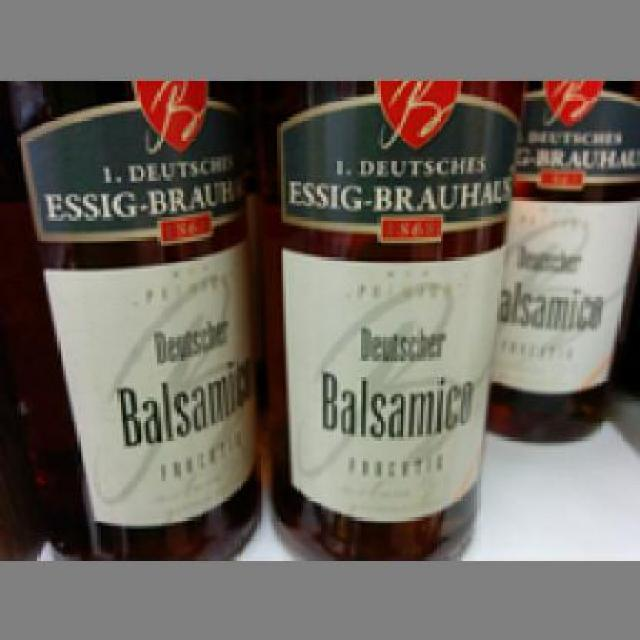Vinegar: (0, 77, 260, 563), (252, 76, 514, 552), (485, 72, 638, 434)
